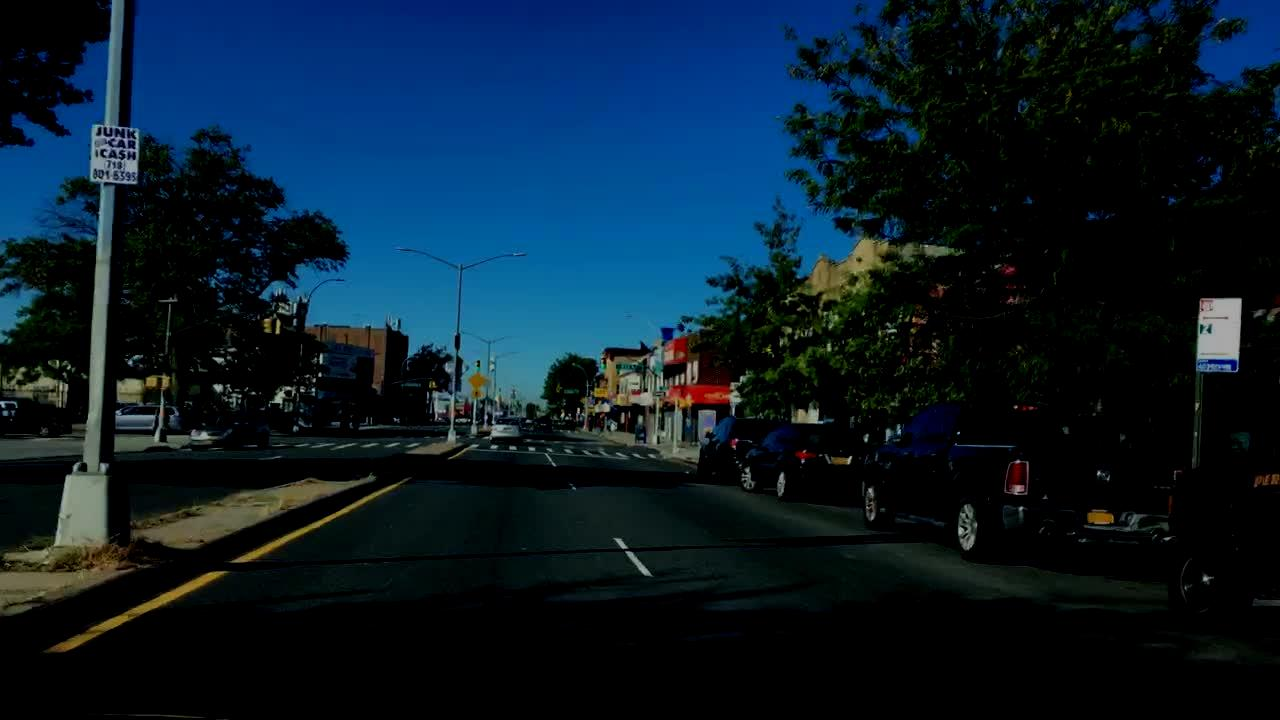ram: (1093, 465, 1113, 485)
